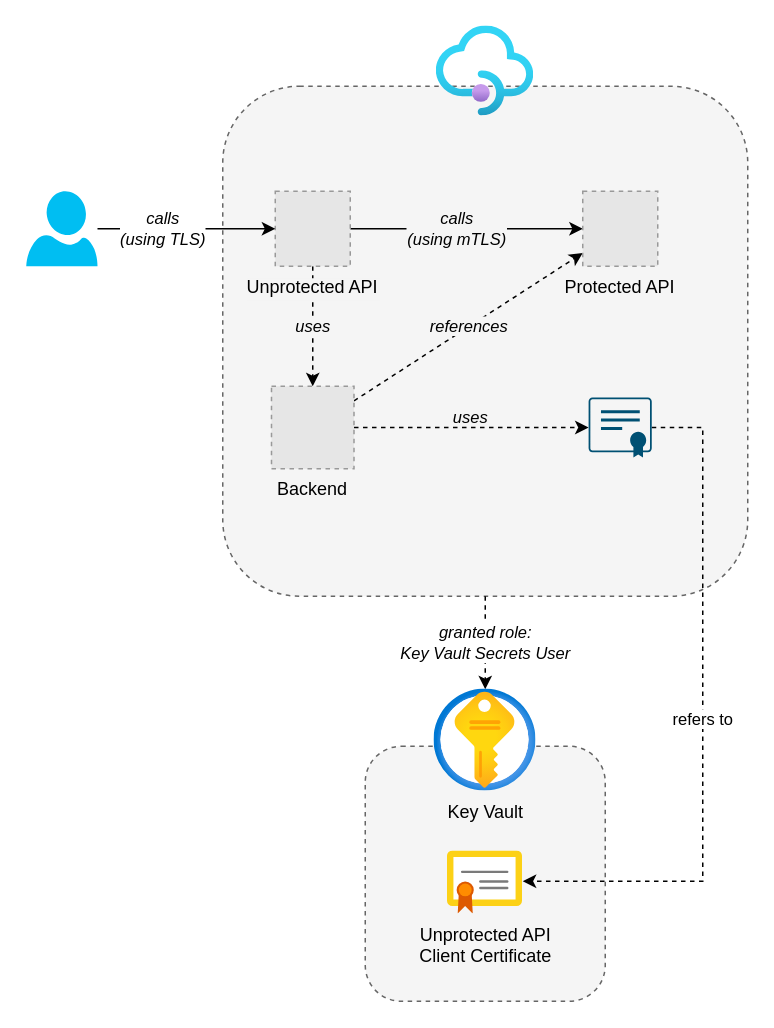
Some shapes in this 774 by 1028 pixel diagram are drawn without their labels. Grey dashed boxes stand in for pictures. Here are the shapes that lost their labels. From the top down, the centre of each, then its label:
At point (484, 71): "API Management".
At point (61, 228): "You".
At point (619, 427): "Certificate (link to actual certificate in Key Vault)".
